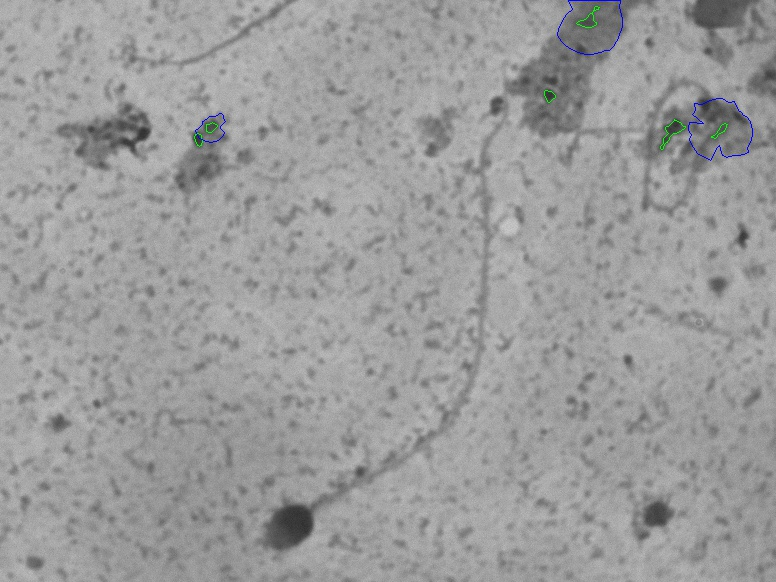Normal: (244, 59, 513, 565)
